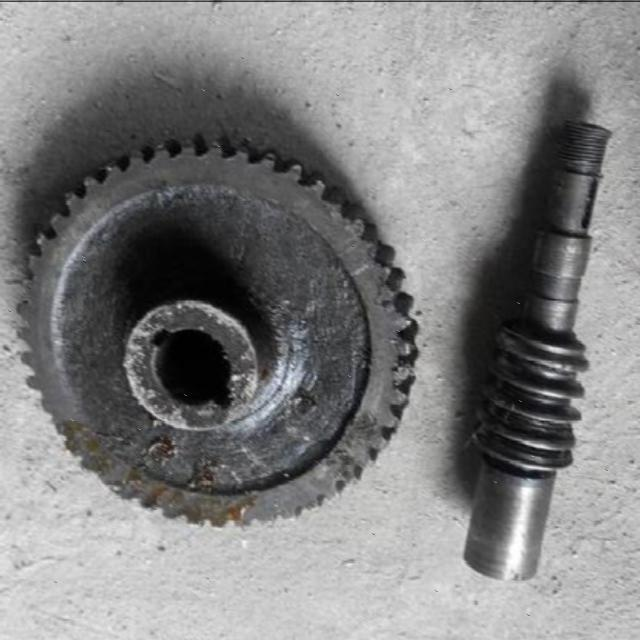Gear: (16, 131, 422, 527), (468, 318, 594, 480)
